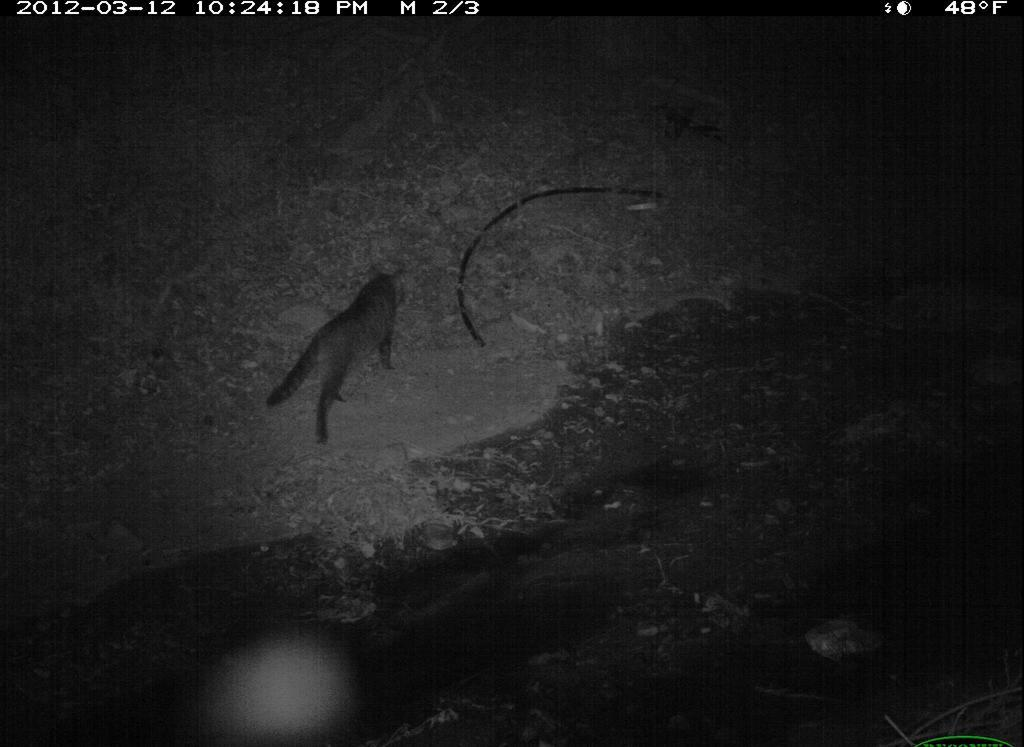cat: (249, 258, 432, 446)
